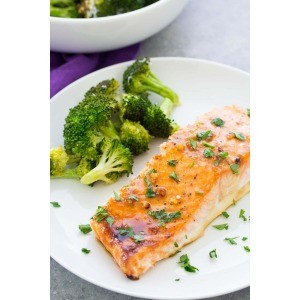salmon_brain food: (99, 116, 235, 272)
